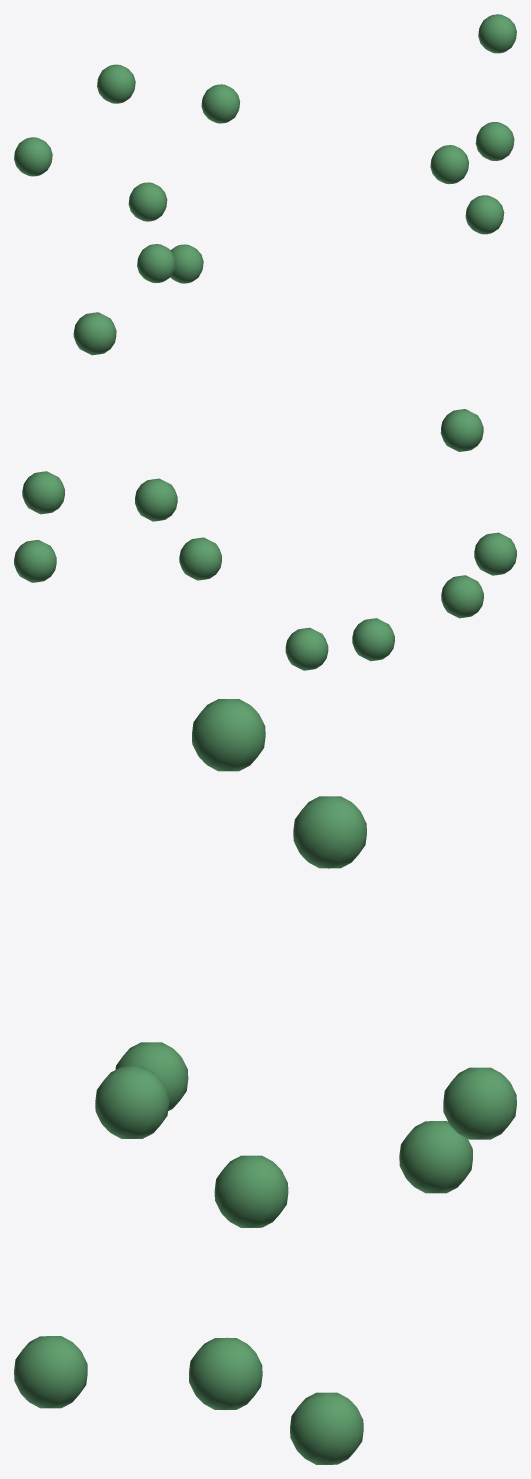
3 views of the same model, one above another, from view 1: azimuth 30°, elevation 25°; view 2: azimuth 150°, elevation 25°; view 3: azimuth 270°, elevation 25° (orthographic). The views are drawn at different scales.
Parts seen in each view (by area): view 1: 气管支气管下淋巴结; view 2: 气管支气管下淋巴结; view 3: 气管支气管下淋巴结.
Part boxes in pixels (x1,y1,x2,y2): 气管支气管下淋巴结: (14,14,516,283); 气管支气管下淋巴结: (14,312,516,670); 气管支气管下淋巴结: (14,699,516,1464).
Size of the model in its own units: 0.0527 by 0.0255 by 0.0256.
